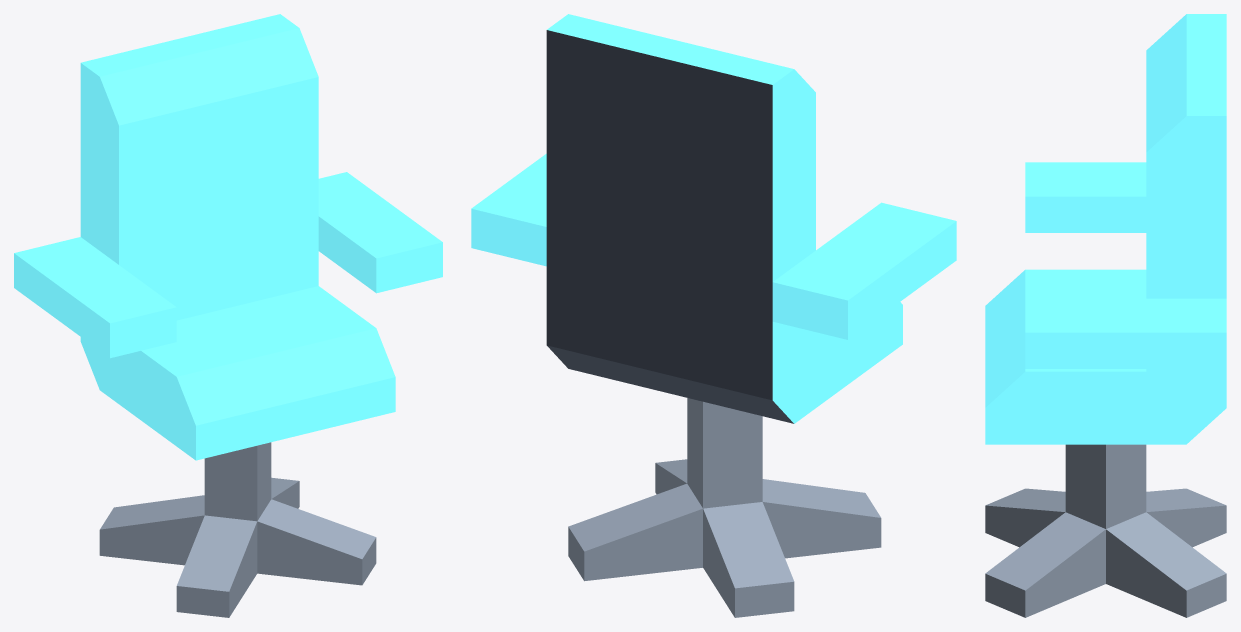
The model's file is desk_chairArms.glb.
3 views of the same model, side by side, from view 1: azimuth 30°, elevation 25°; view 2: azimuth 150°, elevation 25°; view 3: azimuth 270°, elevation 25° (orthographic). The views are drawn at different scales.
Visible parts, largest first — view 1: desk_chairArms; view 2: desk_chairArms; view 3: desk_chairArms.
Boxes of the visible parts, x1,y1,x2,y2 form: desk_chairArms: (14,14,442,617); desk_chairArms: (471,14,956,617); desk_chairArms: (985,14,1226,617).
Bounding box in the file's own units: 0.25 × 0.3438 × 0.15.
